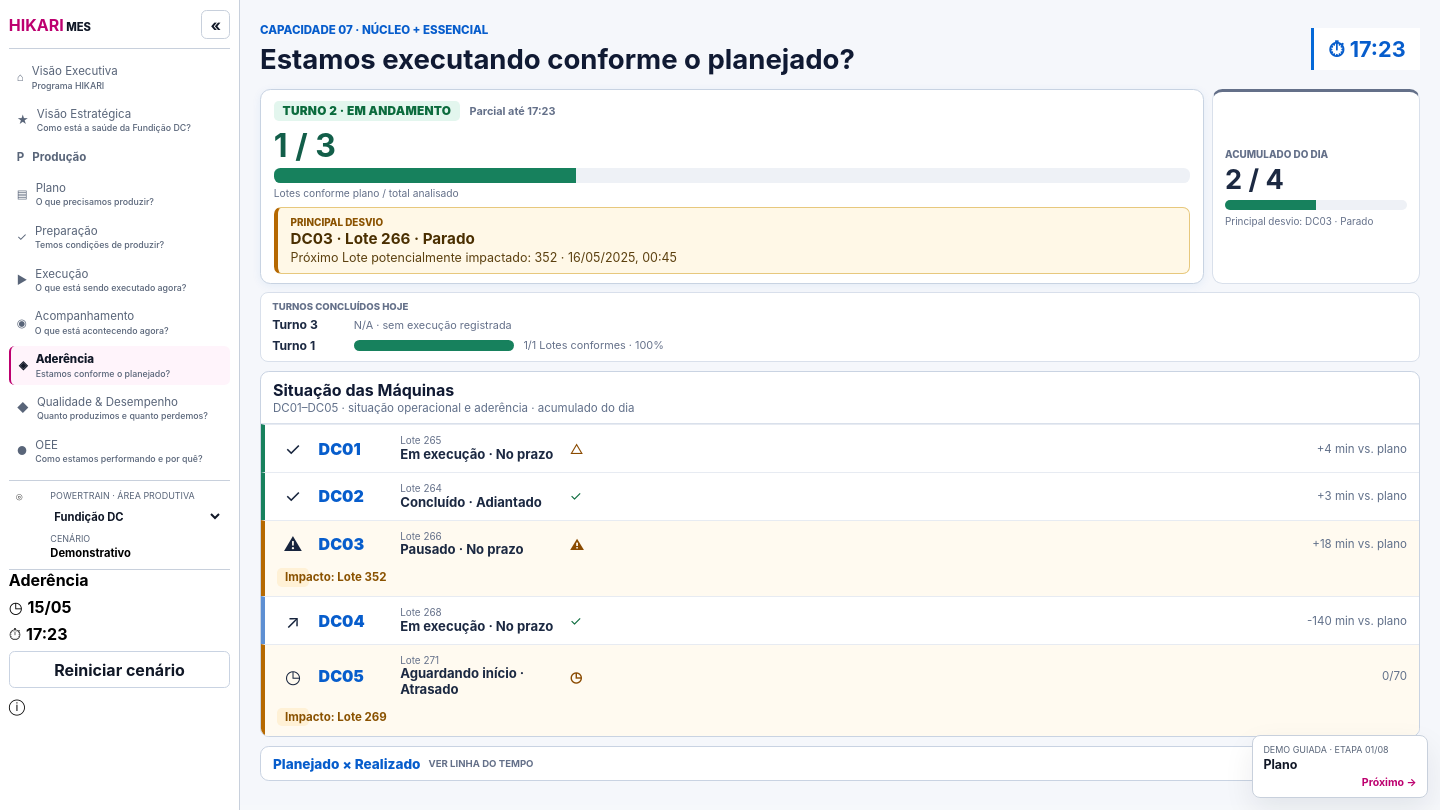
Test: opens the Aderência drill-down for a deviated Lot without execution controls
Click the button "DC03": (341, 544) [261,520,1419,596]
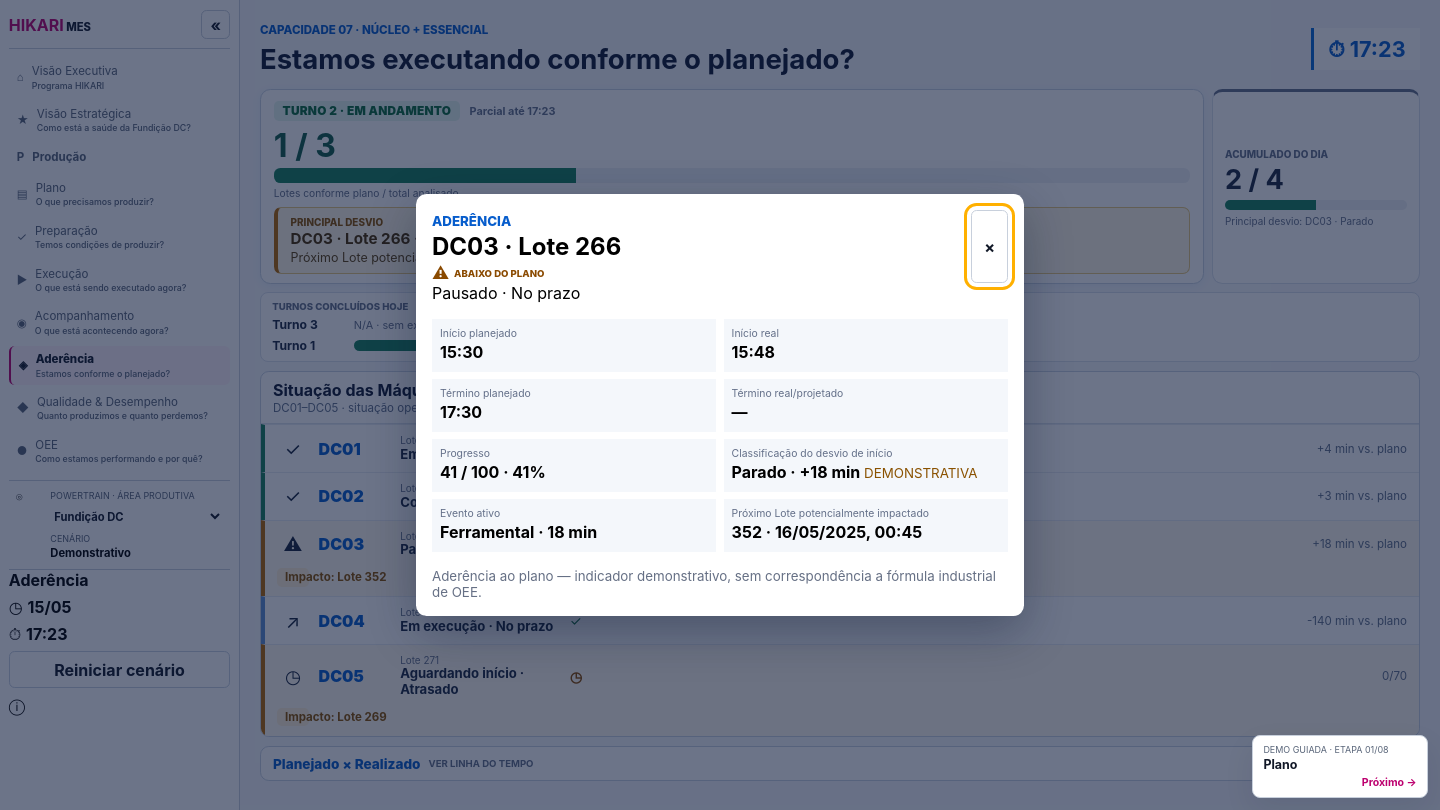
Result: the dialog "DC03" shows "Parado" at [732,462,786,482]
Result: the dialog "DC03" shows "Início planejado" at [440,328,517,340]
